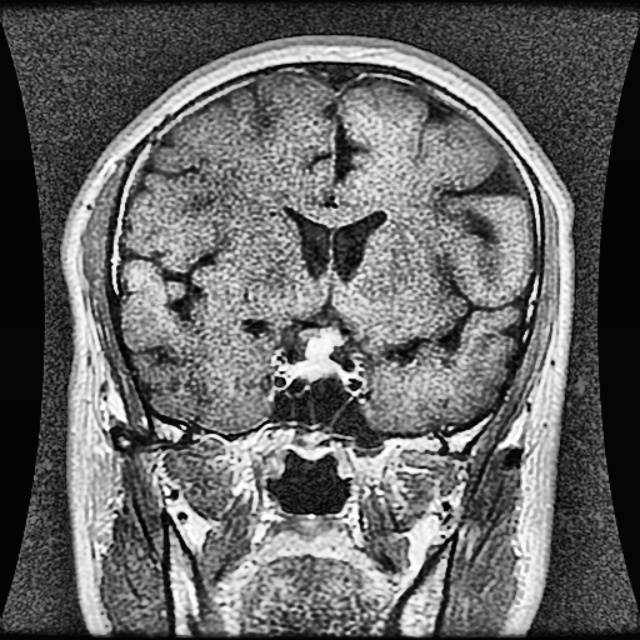Pituitary: (282, 332, 343, 378)
